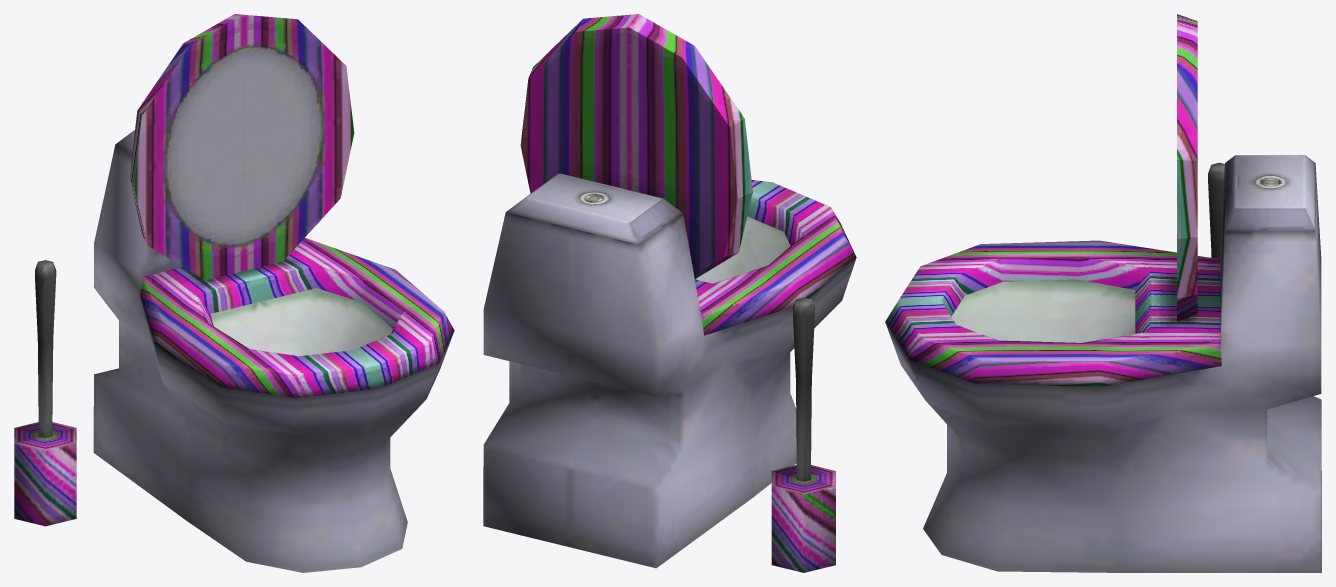
Rendered from furni_0200624_01.FBX.
3 views of the same model, side by side, from view 1: azimuth 30°, elevation 25°; view 2: azimuth 150°, elevation 25°; view 3: azimuth 270°, elevation 25° (orthographic). The views are drawn at different scales.
Visible parts, largest first — view 1: furni_0200624_01; view 2: furni_0200624_01; view 3: furni_0200624_01.
Boxes of the visible parts, bbox=[...] form: furni_0200624_01: bbox=[14, 14, 454, 572]; furni_0200624_01: bbox=[483, 14, 856, 572]; furni_0200624_01: bbox=[885, 14, 1321, 572].
Bounding box in the file's own units: 78.06 × 104 × 81.64.
Materials: 1 (1 with a texture image).
